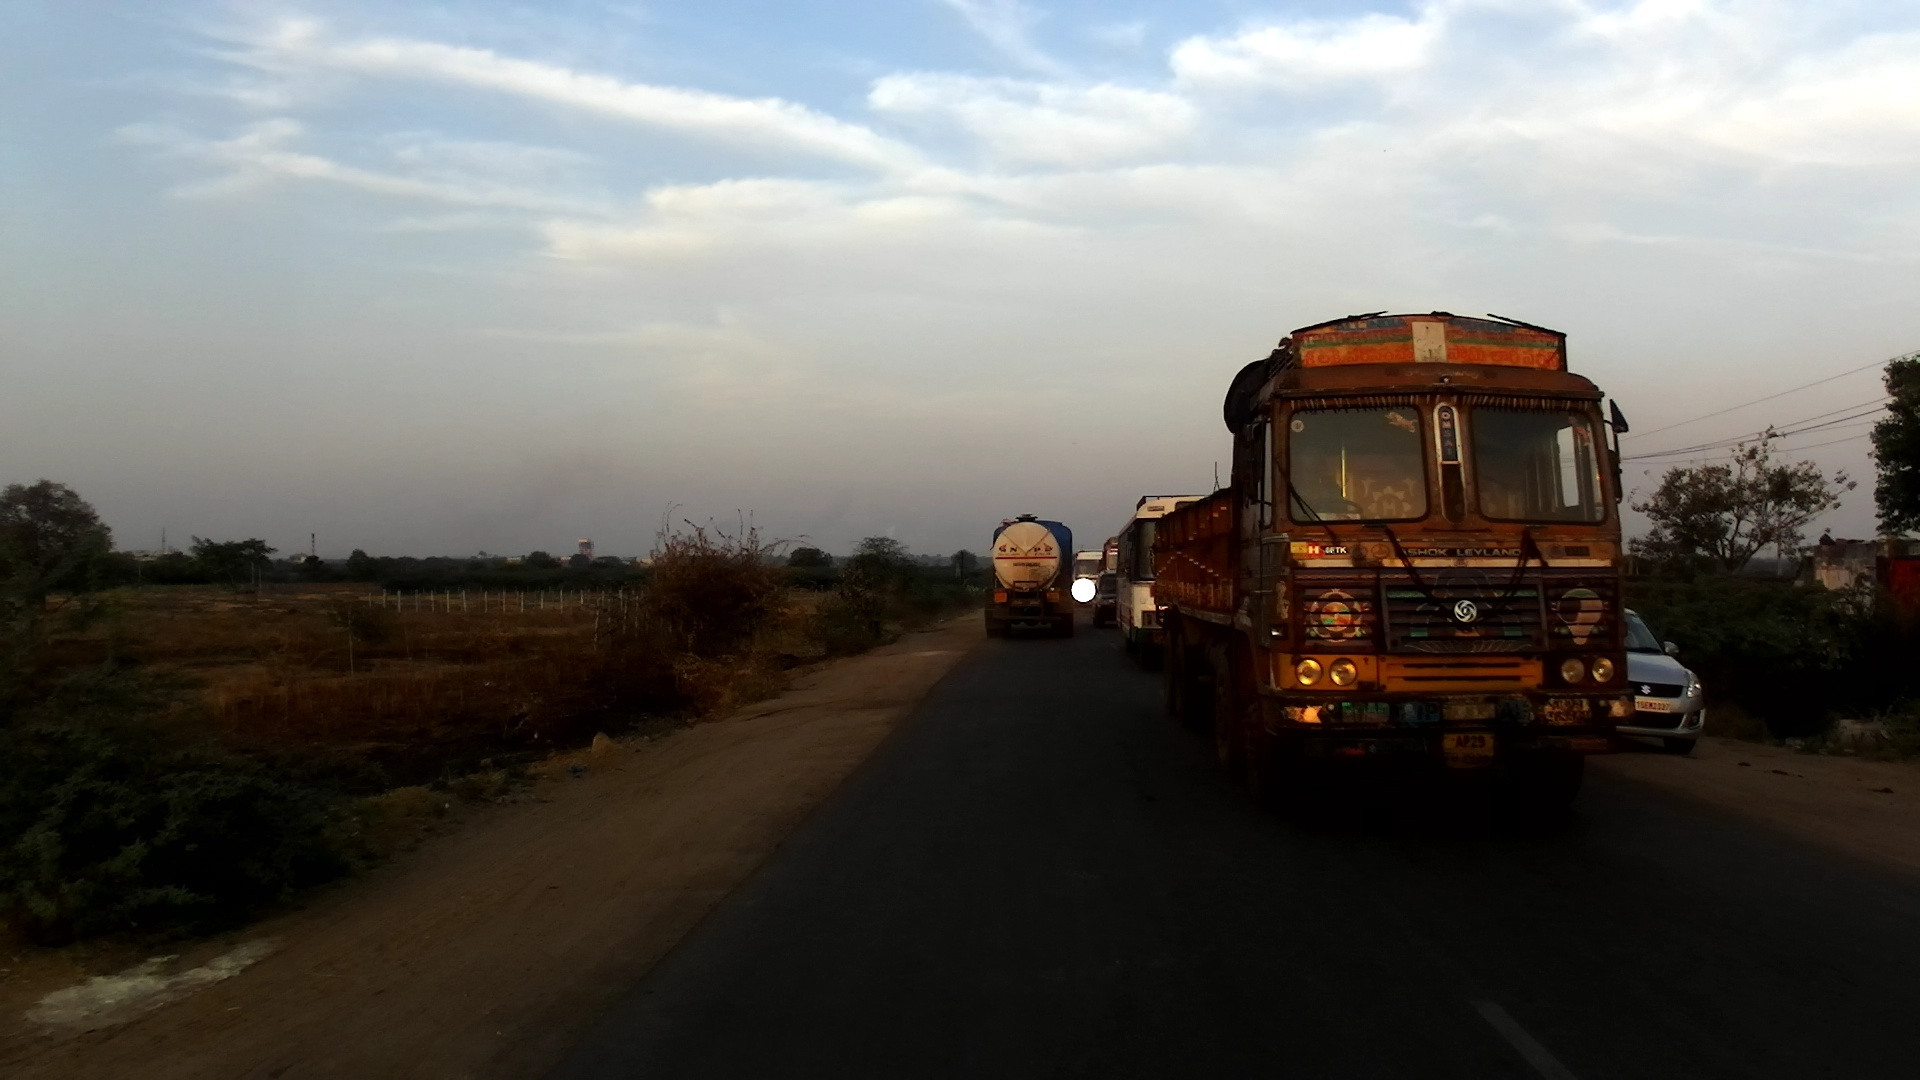bus: (1106, 483, 1241, 680), (1072, 551, 1110, 611)
car: (1611, 607, 1709, 756)
truck: (1149, 309, 1631, 832), (986, 514, 1075, 634), (1093, 535, 1131, 629)
